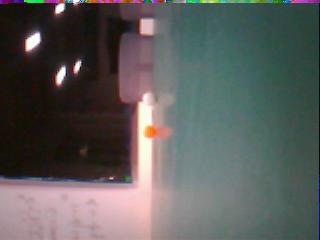oball: (141, 124, 158, 139)
